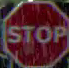Stop: (2, 2, 68, 67)
